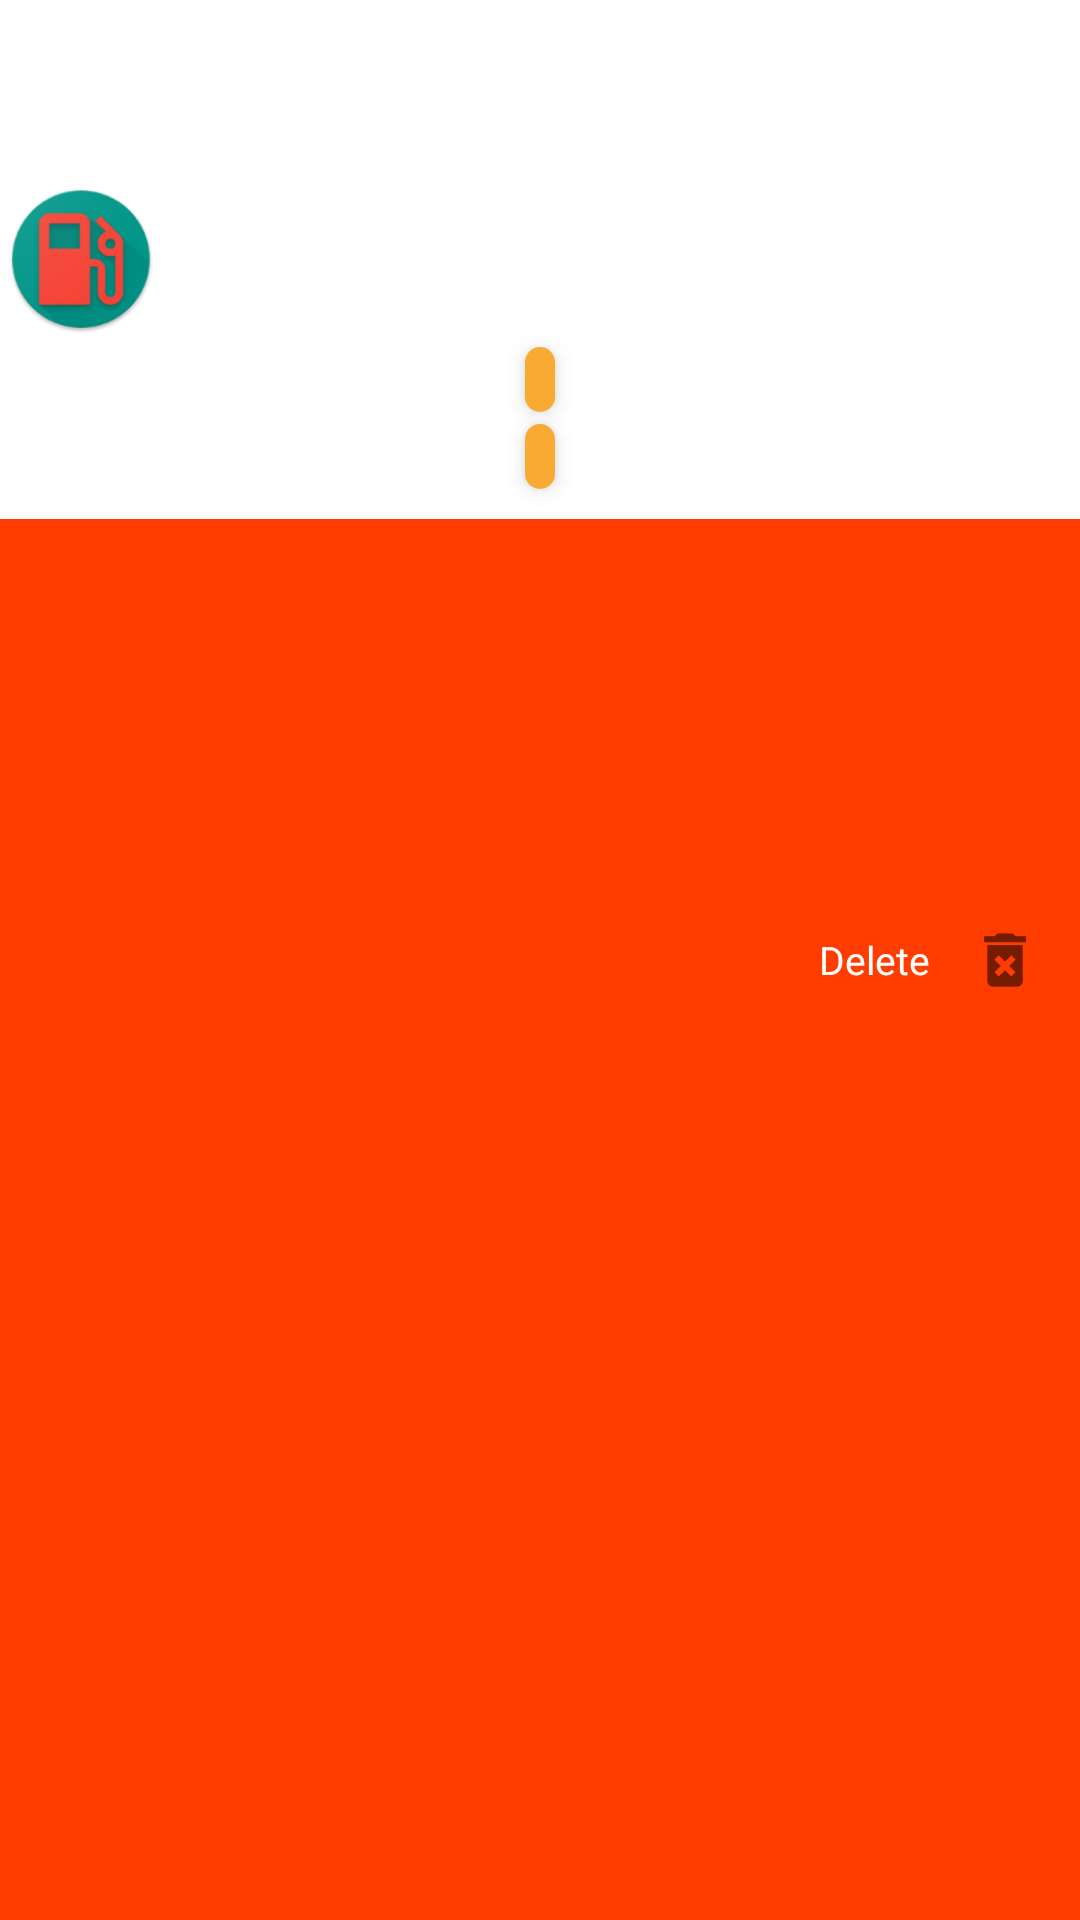

Named icons in this screenshot (1080px×1920px) and their centers, (x=x, y=y):
gas round: (x=81, y=260)
